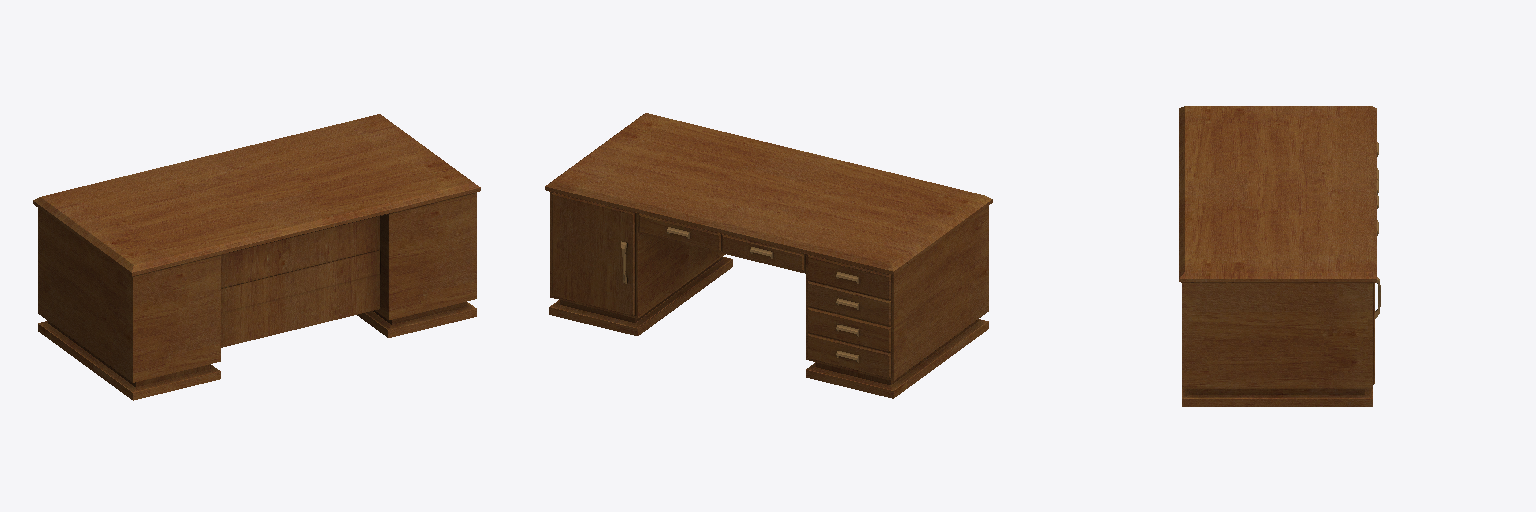
3 renders of one model, left to right at view 1: azimuth 30°, elevation 25°; view 2: azimuth 150°, elevation 25°; view 3: azimuth 270°, elevation 25°, orthographic.
Visible parts, largest first — view 1: DeskWood; view 2: DeskWood; view 3: DeskWood.
Boxes of the visible parts, x1,y1,x2,y2 form: DeskWood: [33, 114, 480, 400]; DeskWood: [545, 113, 992, 398]; DeskWood: [1179, 106, 1380, 406].
Bounding box in the file's own units: 196 × 72 × 97.94.
Materials: 1 (1 with a texture image).